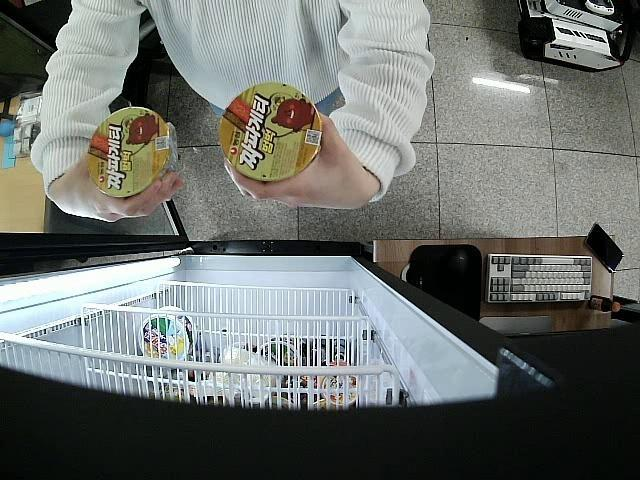04_chapagetti_S: (218, 84, 321, 182), (85, 103, 178, 200)
